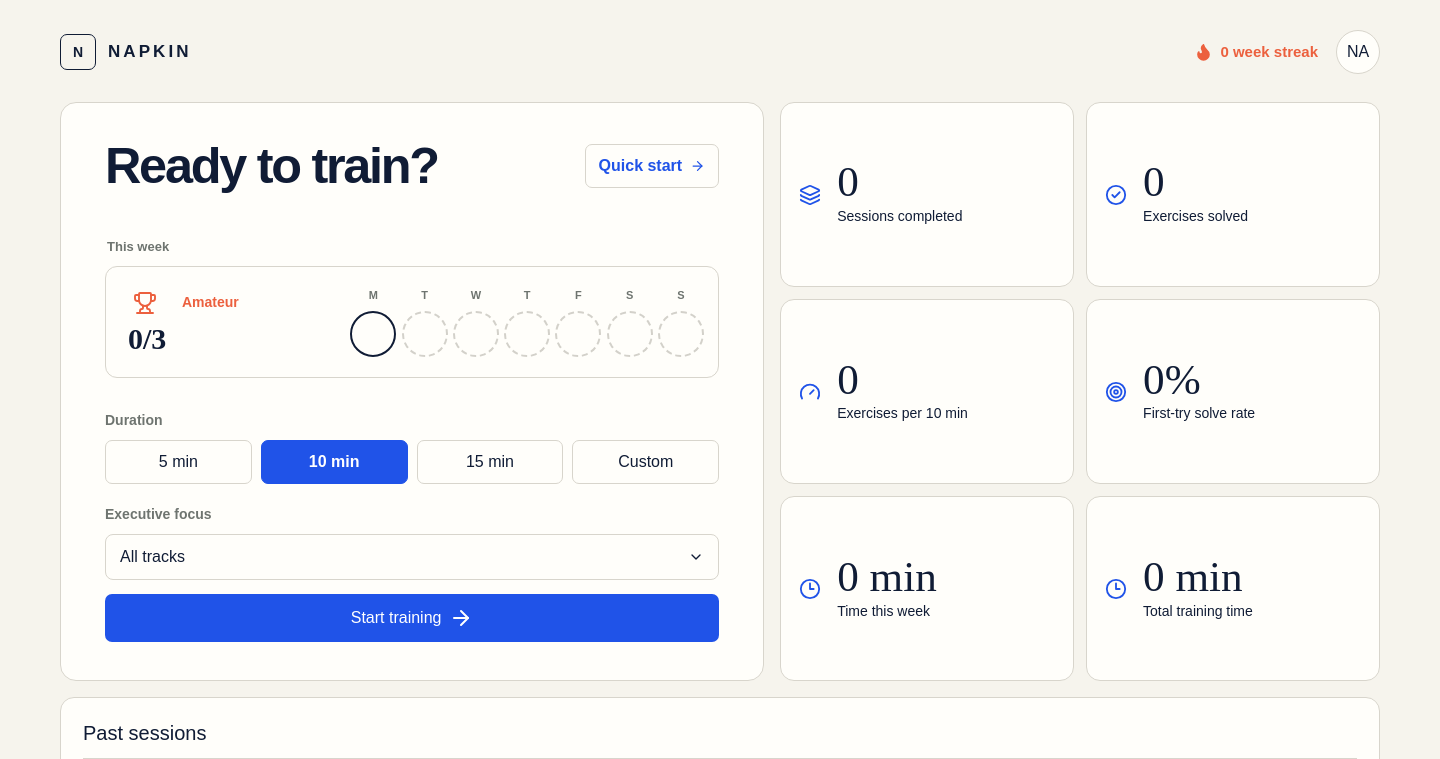
Test: Napkin V1 flow › Quick start uses All without changing the saved CFO preference
Click the button with aria-label "Executive focus:" at (152, 557), box [105,534,719,580]
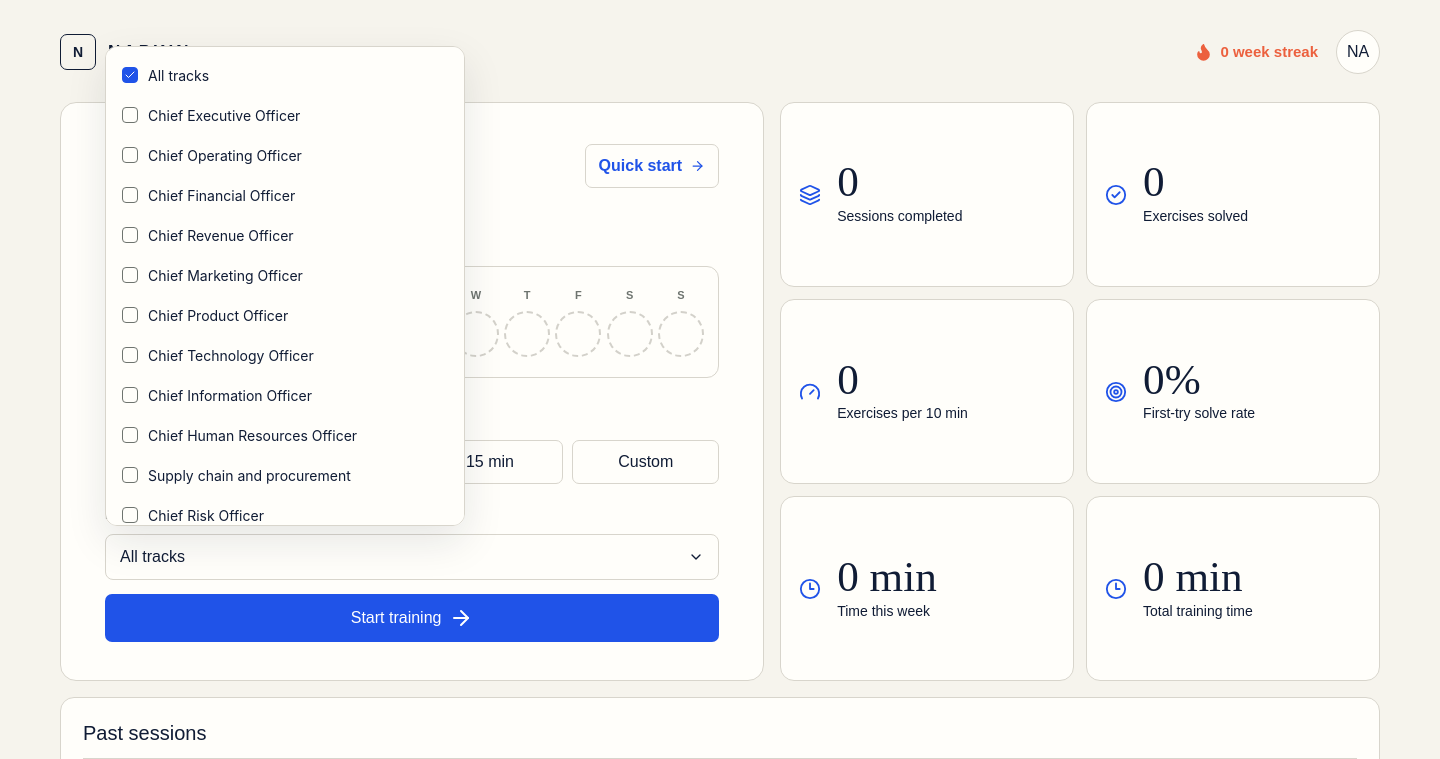
Click the menu item "Chief Financial Officer" at (209, 195), box [122,186,295,204]
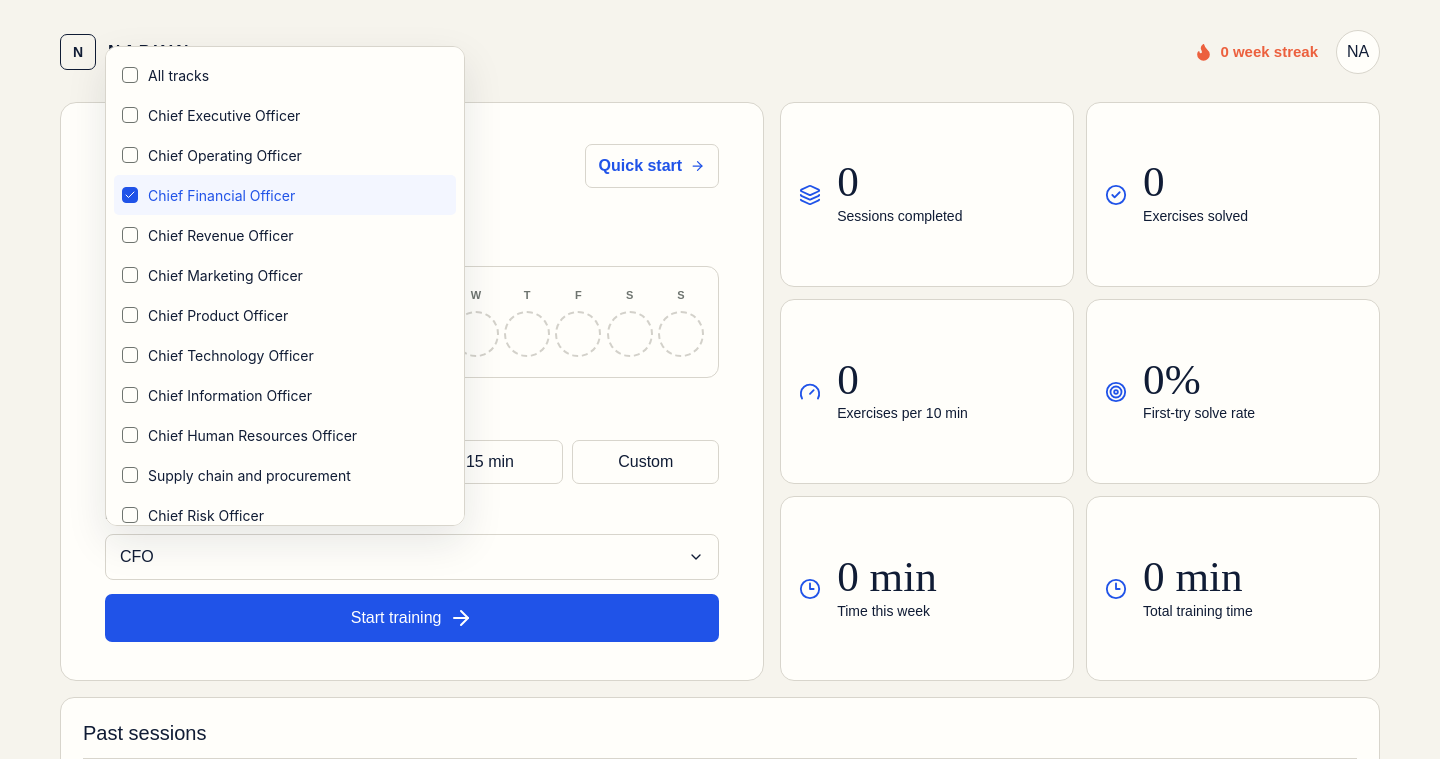
Press Escape
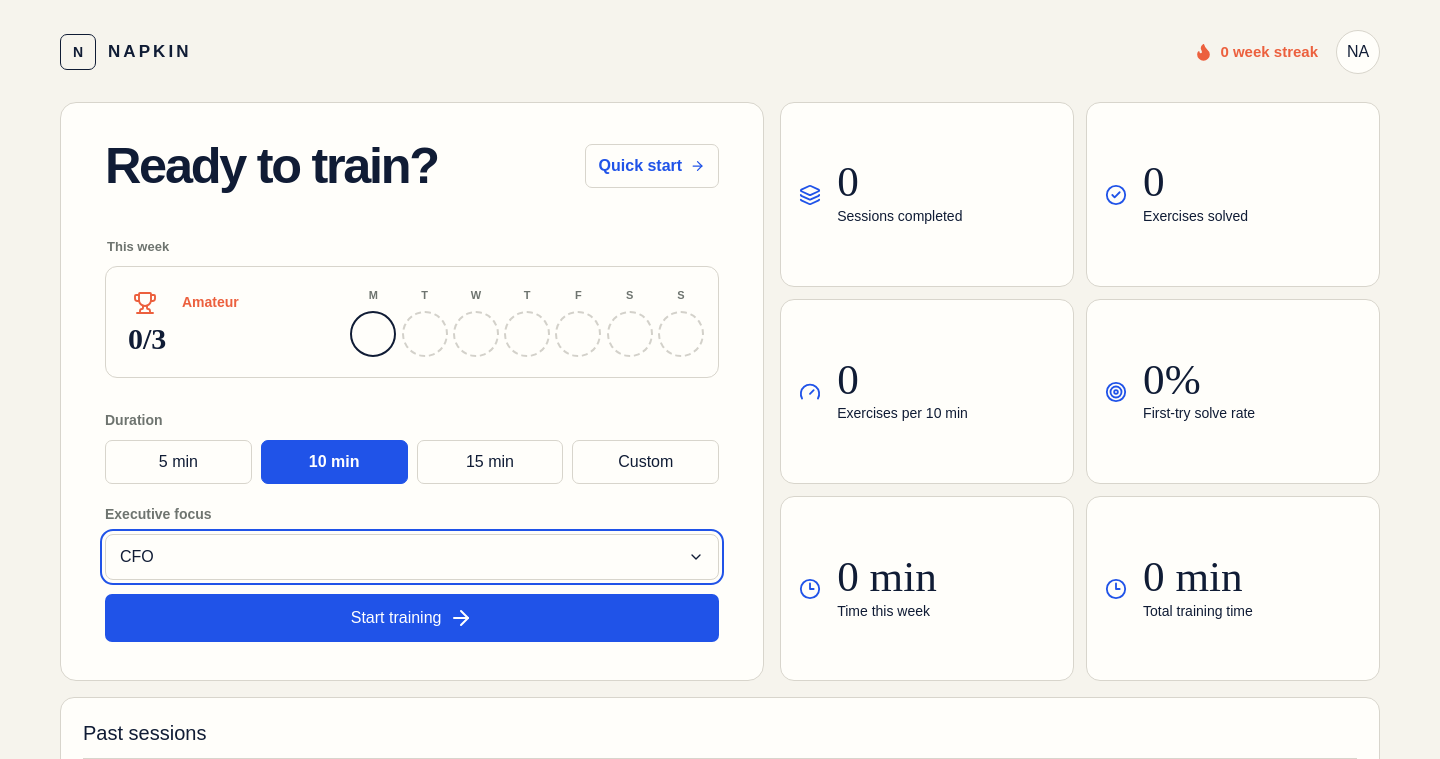
Click the button "Quick start" at (652, 166), box [585,144,719,188]
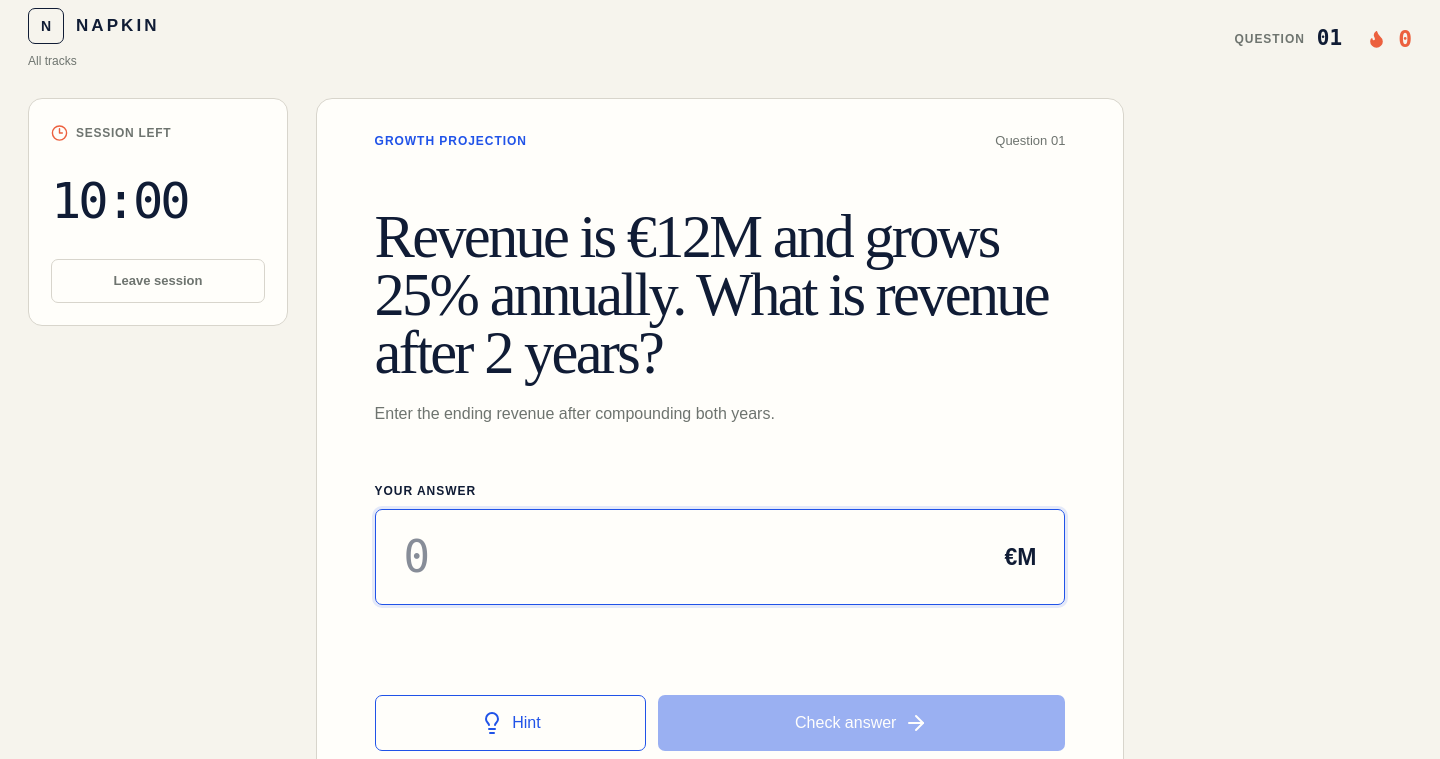
Now the field labelled "Your answer" is shown, box [376,524,976,590]
